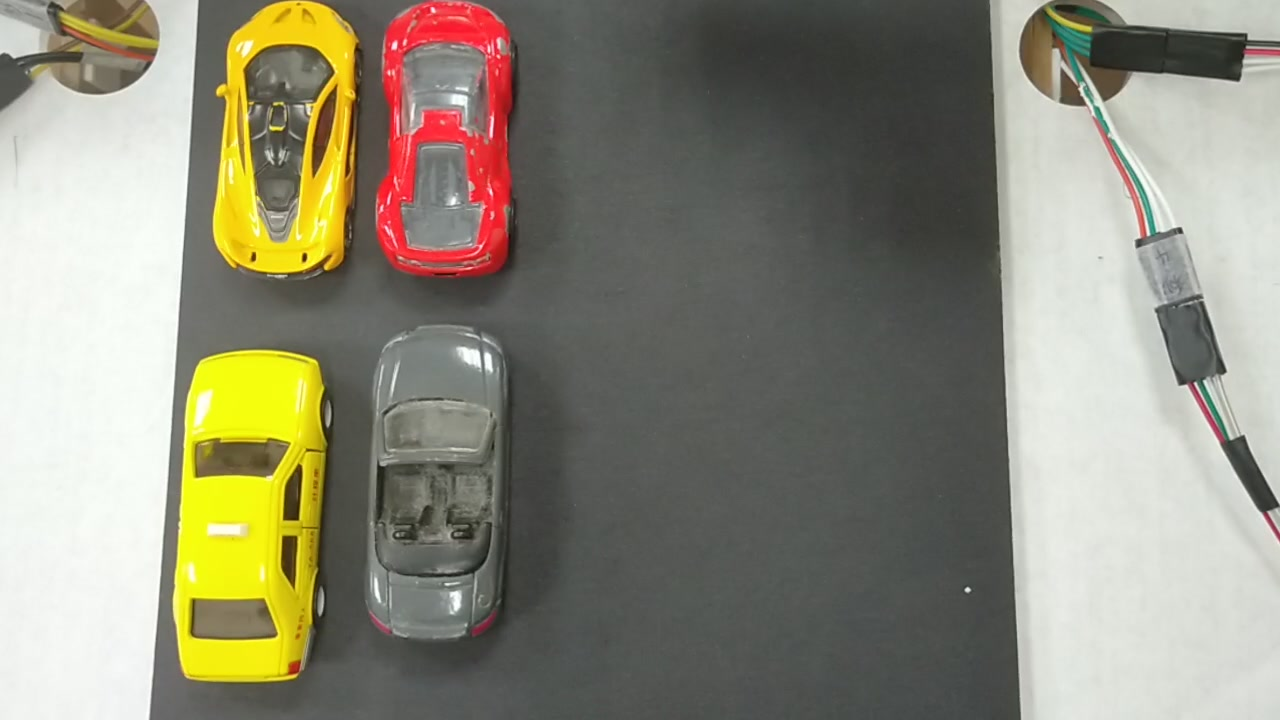car: (177, 350, 329, 683), (365, 328, 514, 632), (214, 1, 357, 272), (377, 5, 509, 274)
